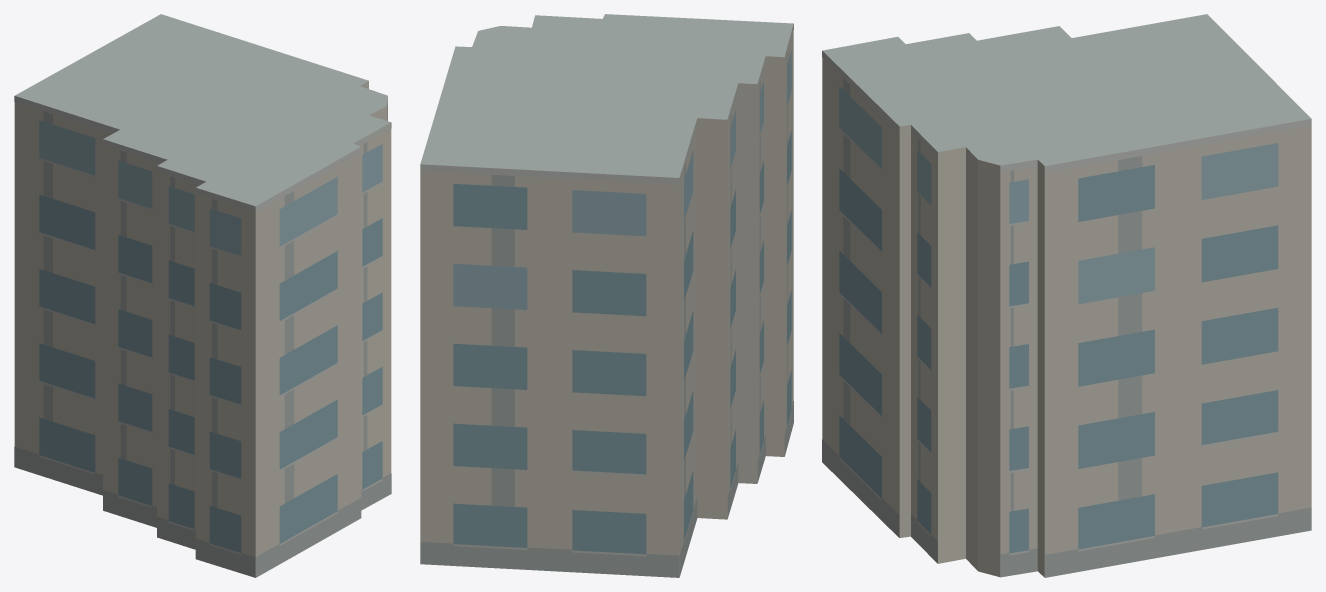
Rendered from survey-upis-32751100.glb.
The picture shows the model from 3 angles, left to right: view 1: azimuth 30°, elevation 25°; view 2: azimuth 150°, elevation 25°; view 3: azimuth 270°, elevation 25°; orthographic projection. The views are drawn at different scales.
Visible parts, largest first — view 1: survey-upis-32751100.tmp; view 2: survey-upis-32751100.tmp; view 3: survey-upis-32751100.tmp.
Boxes of the visible parts, x1,y1,x2,y2 form: survey-upis-32751100.tmp: (14, 14, 391, 577); survey-upis-32751100.tmp: (420, 14, 793, 577); survey-upis-32751100.tmp: (822, 14, 1311, 577).
Size of the model in its own units: 11.58 by 14.6 by 15.74.
